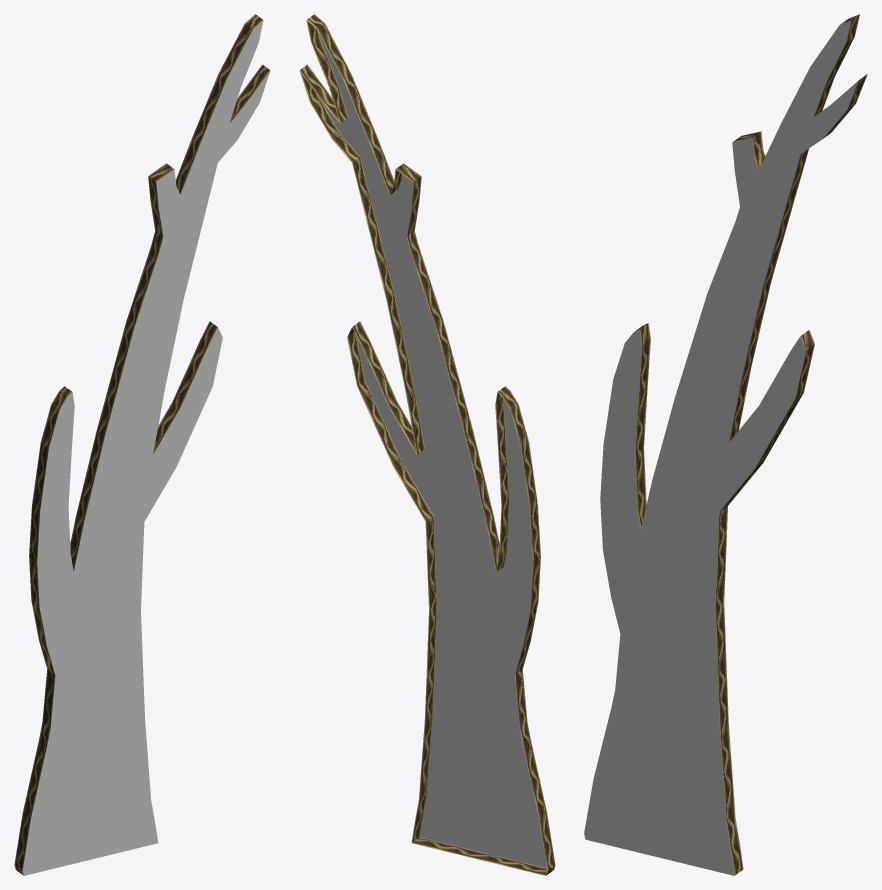
Rendered from tree_05.fbx.
The picture shows the model from 3 angles, left to right: view 1: azimuth 30°, elevation 25°; view 2: azimuth 150°, elevation 25°; view 3: azimuth 330°, elevation 25°; orthographic projection. The views are drawn at different scales.
Parts seen in each view (by area): view 1: tree_05; view 2: tree_05; view 3: tree_05.
Part boxes in pixels (x1,y1,x2,y2): tree_05: (14,14,270,875); tree_05: (299,14,555,875); tree_05: (584,14,867,875).
Size of the model in its own units: 1.38 by 4.26 by 0.0795.
